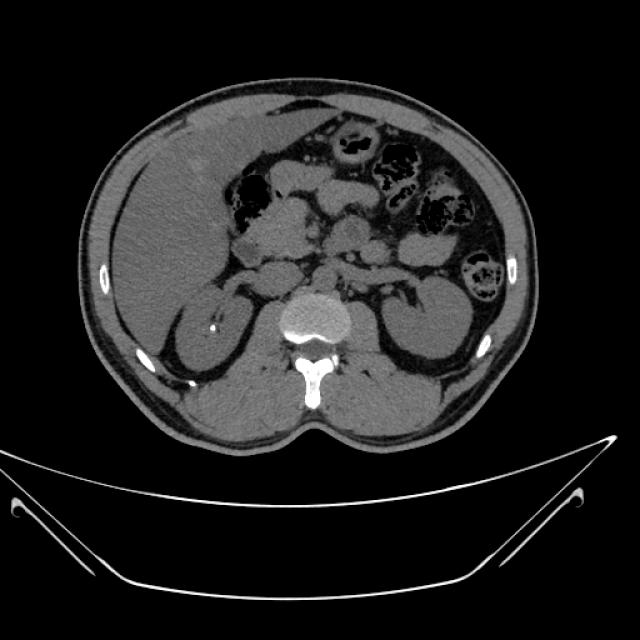kidney: (376, 271, 478, 360), (170, 288, 256, 374)
stone: (209, 317, 221, 337)
